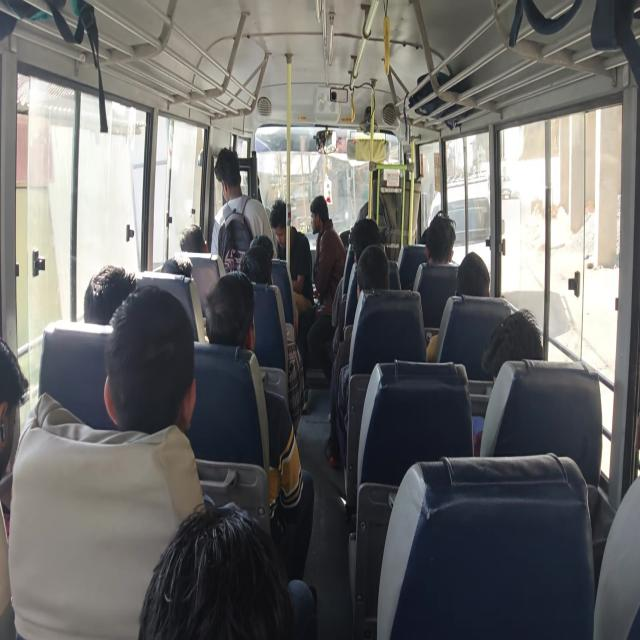person: (21, 266, 123, 509), (138, 504, 300, 638), (103, 284, 196, 437), (596, 370, 640, 634), (333, 216, 387, 350), (0, 334, 30, 525), (412, 214, 461, 328), (482, 308, 544, 380), (203, 270, 255, 353), (83, 264, 137, 326), (306, 182, 343, 260), (239, 242, 273, 288), (350, 217, 382, 263), (215, 152, 243, 197), (157, 254, 196, 280), (178, 225, 206, 253), (271, 198, 291, 235), (356, 201, 370, 227), (420, 227, 432, 245)
